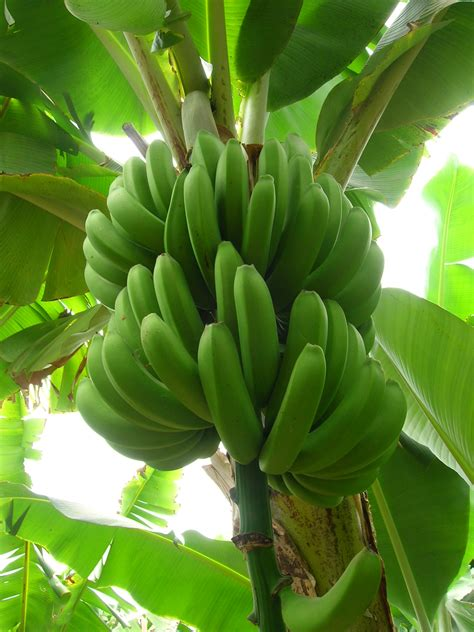banana: (100, 327, 209, 435), (246, 342, 329, 480), (195, 319, 264, 472), (278, 539, 386, 632), (264, 182, 332, 306), (175, 162, 231, 297), (81, 206, 154, 274)
